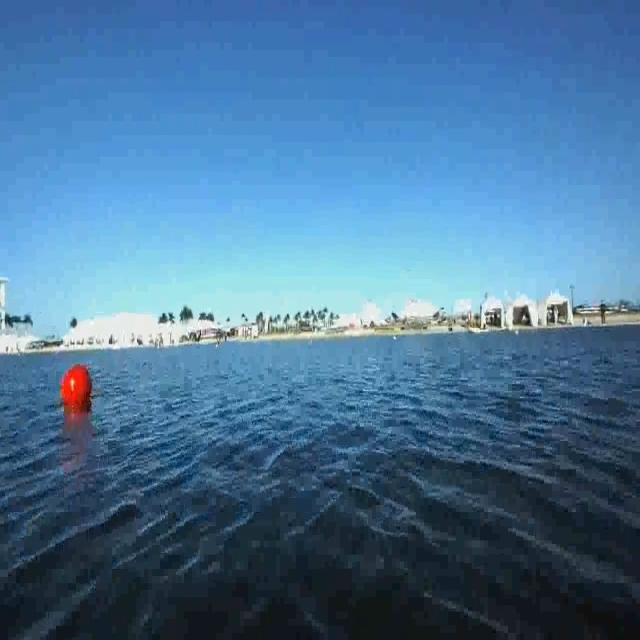red-buoy: (62, 366, 92, 408)
